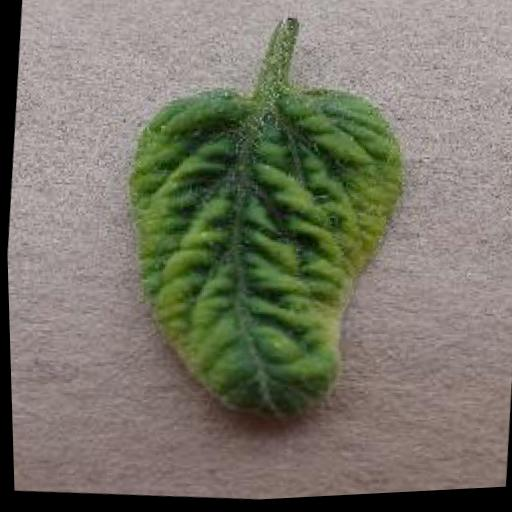Yellow Leaf Curl Virus: (108, 76, 414, 440)
